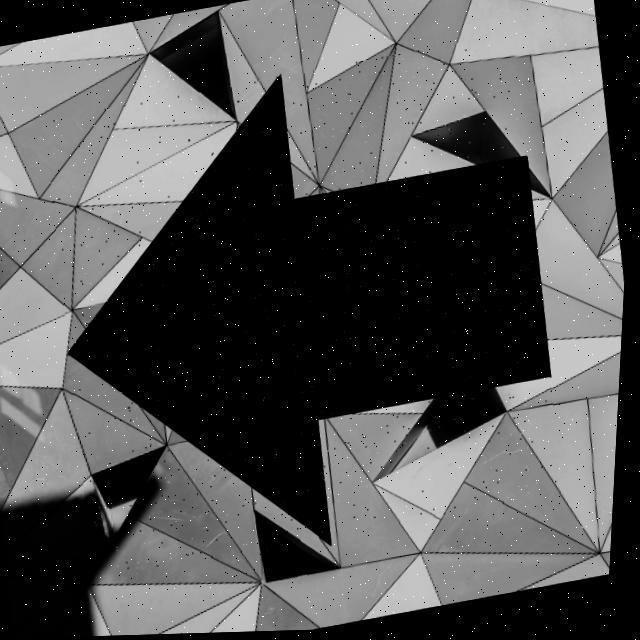LEFT: (73, 79, 554, 539), (74, 79, 553, 539)
